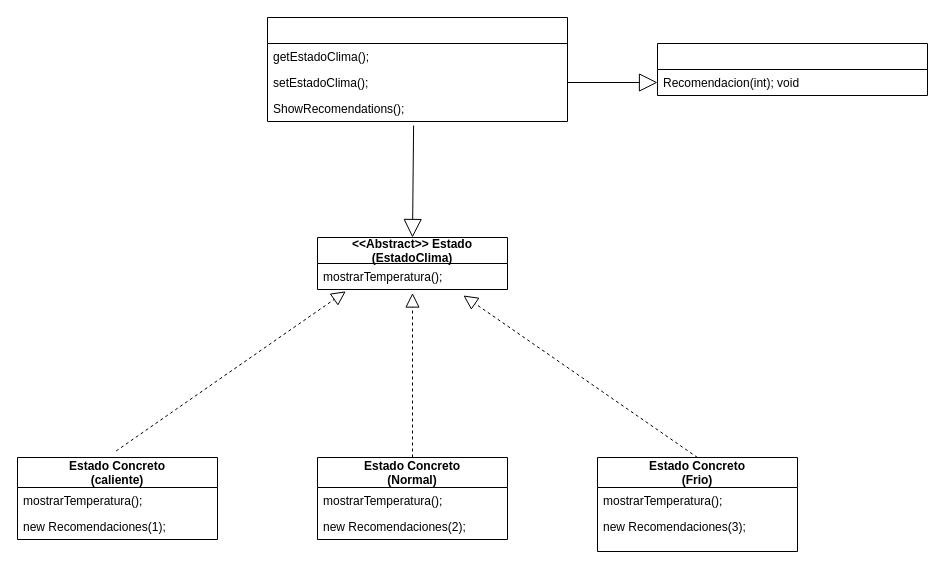
Some shapes in this 945 by 572 pixel diagram are drawn without their labels. The shapes that lost their labels are listed below. From the top down, each one's box as (x1, y1, x2, y2) in pixels, then its label:
(266, 16, 568, 122): Contexto (Clima)
(656, 42, 928, 96): Recomendaciones
